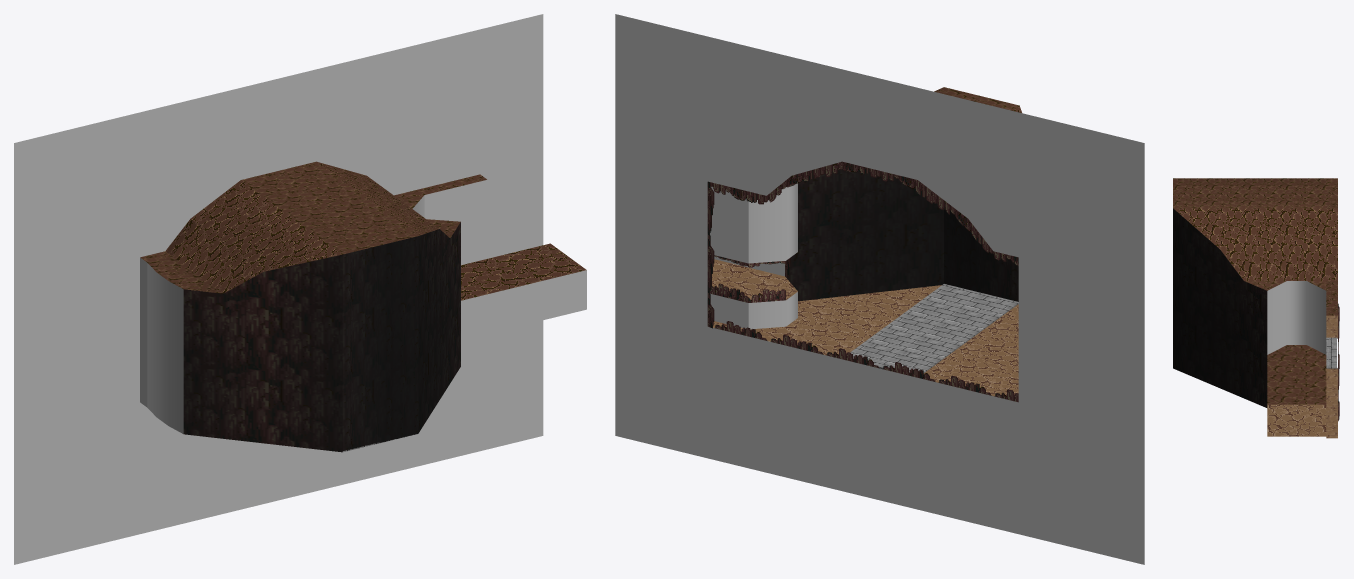
Rendered from Room9.1.fbx.
The picture shows the model from 3 angles, left to right: view 1: azimuth 30°, elevation 25°; view 2: azimuth 150°, elevation 25°; view 3: azimuth 270°, elevation 25°; orthographic projection. The views are drawn at different scales.
Visible parts, largest first — view 1: pCube9; view 2: pCube9; view 3: pCube9.
Part boxes in pixels (x1,y1,x2,y2): pCube9: [14, 14, 586, 564]; pCube9: [615, 14, 1144, 564]; pCube9: [1173, 178, 1339, 438].
Size of the model in its own units: 42 by 32 by 14.15.
